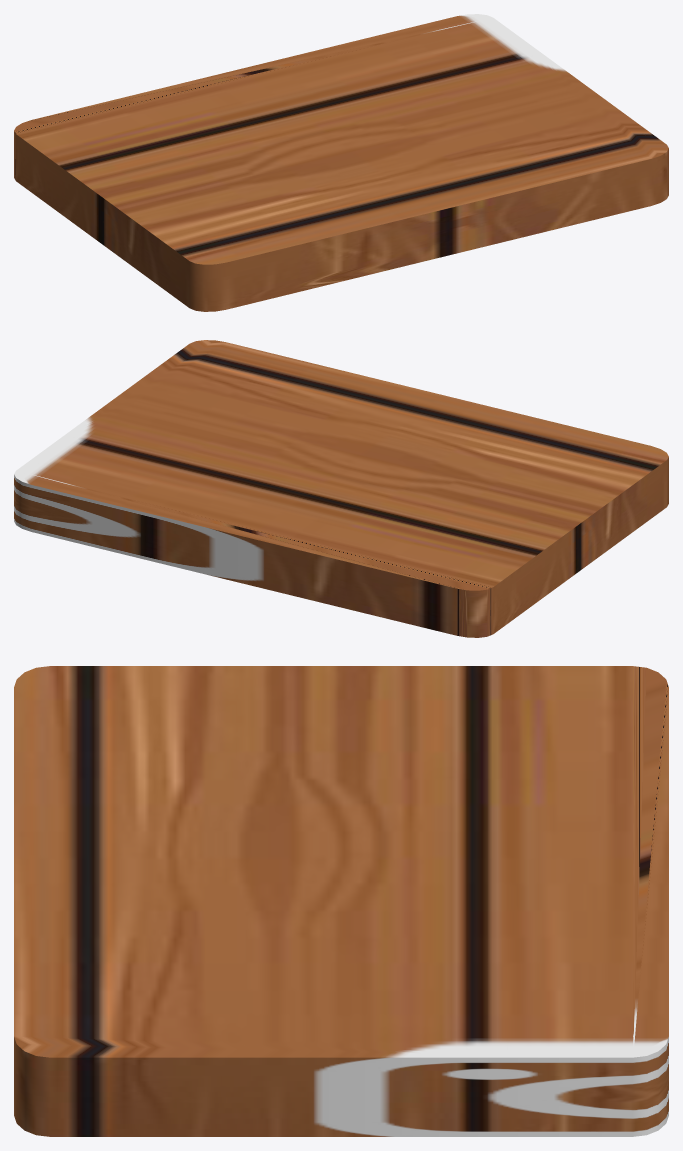
The model's file is papan.fbx.
3 views of the same model, one above another, from view 1: azimuth 30°, elevation 25°; view 2: azimuth 150°, elevation 25°; view 3: azimuth 270°, elevation 25° (orthographic). The views are drawn at different scales.
Parts seen in each view (by area): view 1: Cube; view 2: Cube; view 3: Cube.
Boxes of the visible parts, x1,y1,x2,y2 form: Cube: (14,14,668,311); Cube: (14,340,668,637); Cube: (14,666,668,1136).
Size of the model in its own units: 350 by 33.05 by 248.
